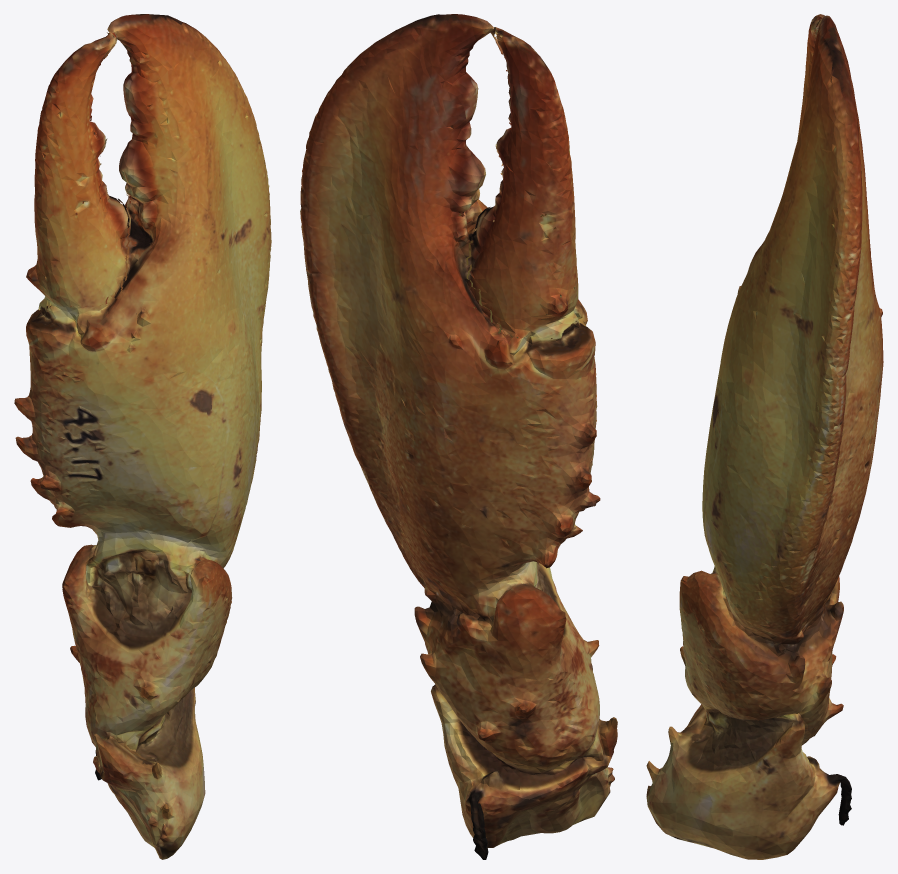
The model's file is NewClaws.obj.
3 views of the same model, side by side, from view 1: azimuth 30°, elevation 25°; view 2: azimuth 150°, elevation 25°; view 3: azimuth 270°, elevation 25° (orthographic). The views are drawn at different scales.
Visible parts, largest first — view 1: crab_claw_43.17, crab_claw_43.001; view 2: crab_claw_43.17, crab_claw_43.001; view 3: crab_claw_43.17, crab_claw_43.001.
Part boxes in pixels (x1,y1,x2,y2): crab_claw_43.17: (14,14,271,859); crab_claw_43.001: (26,32,129,312); crab_claw_43.17: (300,14,617,859); crab_claw_43.001: (460,27,578,339); crab_claw_43.17: (646,15,883,859); crab_claw_43.001: (797,14,824,140).
Bounding box in the file's own units: 34.4 × 98.79 × 25.37.
